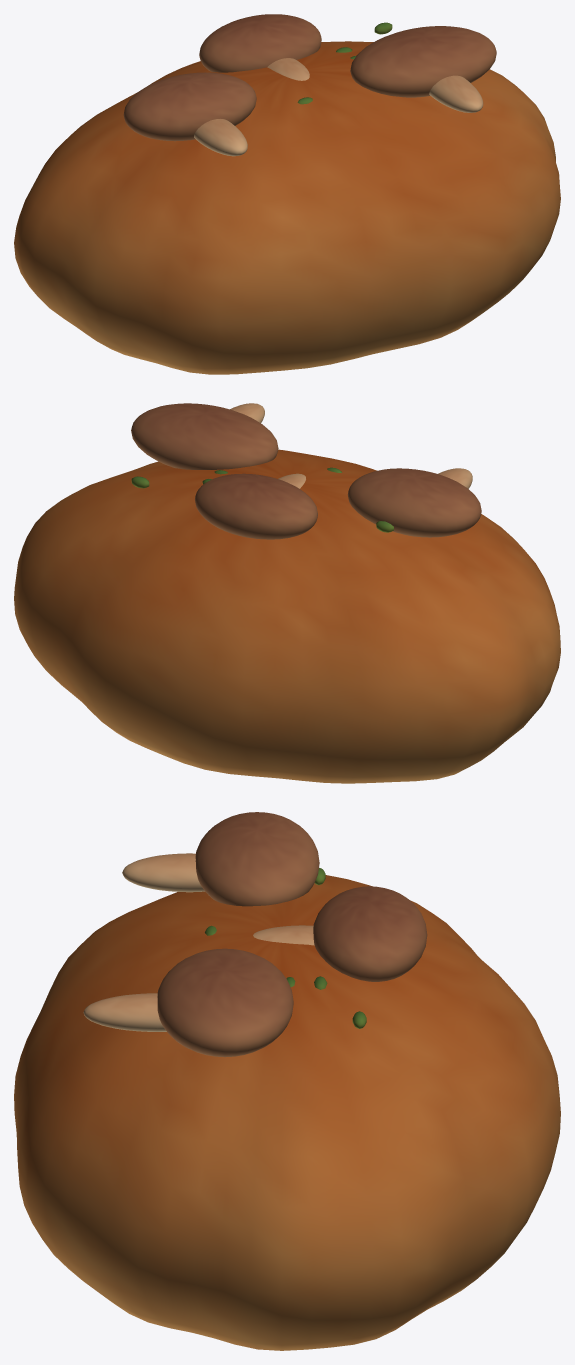
Rendered from bread_mushroom.glb.
3 renders of one model, top to bottom at view 1: azimuth 30°, elevation 25°; view 2: azimuth 150°, elevation 25°; view 3: azimuth 270°, elevation 25°, orthographic. The views are drawn at different scales.
Parts seen in each view (by area): view 1: きのこパンの生地, 焼ききのこの傘.002, 焼ききのこの傘, 焼ききのこの傘.001, きのこの軸, きのこの軸.002, きのこの軸.001; view 2: きのこパンの生地, 焼ききのこの傘.002, 焼ききのこの傘, 焼ききのこの傘.001, 刻みパセリ; view 3: きのこパンの生地, 焼ききのこの傘.002, 焼ききのこの傘, 焼ききのこの傘.001, きのこの軸, きのこの軸.002, きのこの軸.001.
Part boxes in pixels (bbox=[...]): きのこパンの生地: bbox=[14, 41, 560, 374]; 焼ききのこの傘.002: bbox=[350, 26, 496, 97]; 焼ききのこの傘: bbox=[123, 72, 256, 141]; 焼ききのこの傘.001: bbox=[199, 14, 321, 72]; きのこの軸: bbox=[194, 119, 247, 156]; きのこの軸.002: bbox=[429, 75, 483, 112]; きのこの軸.001: bbox=[267, 58, 309, 80]; きのこパンの生地: bbox=[14, 449, 560, 783]; 焼ききのこの傘.002: bbox=[131, 403, 278, 469]; 焼ききのこの傘: bbox=[347, 468, 481, 537]; 焼ききのこの傘.001: bbox=[195, 473, 317, 539]; 刻みパセリ: bbox=[131, 467, 393, 532]; きのこパンの生地: bbox=[14, 875, 560, 1350]; 焼ききのこの傘.002: bbox=[157, 948, 293, 1057]; 焼ききのこの傘: bbox=[195, 812, 319, 906]; 焼ききのこの傘.001: bbox=[313, 886, 427, 981]; きのこの軸: bbox=[122, 853, 204, 892]; きのこの軸.002: bbox=[83, 993, 166, 1031]; きのこの軸.001: bbox=[253, 925, 314, 945].
Bounding box in the file's own units: 0.9222 × 0.4342 × 0.6647.
